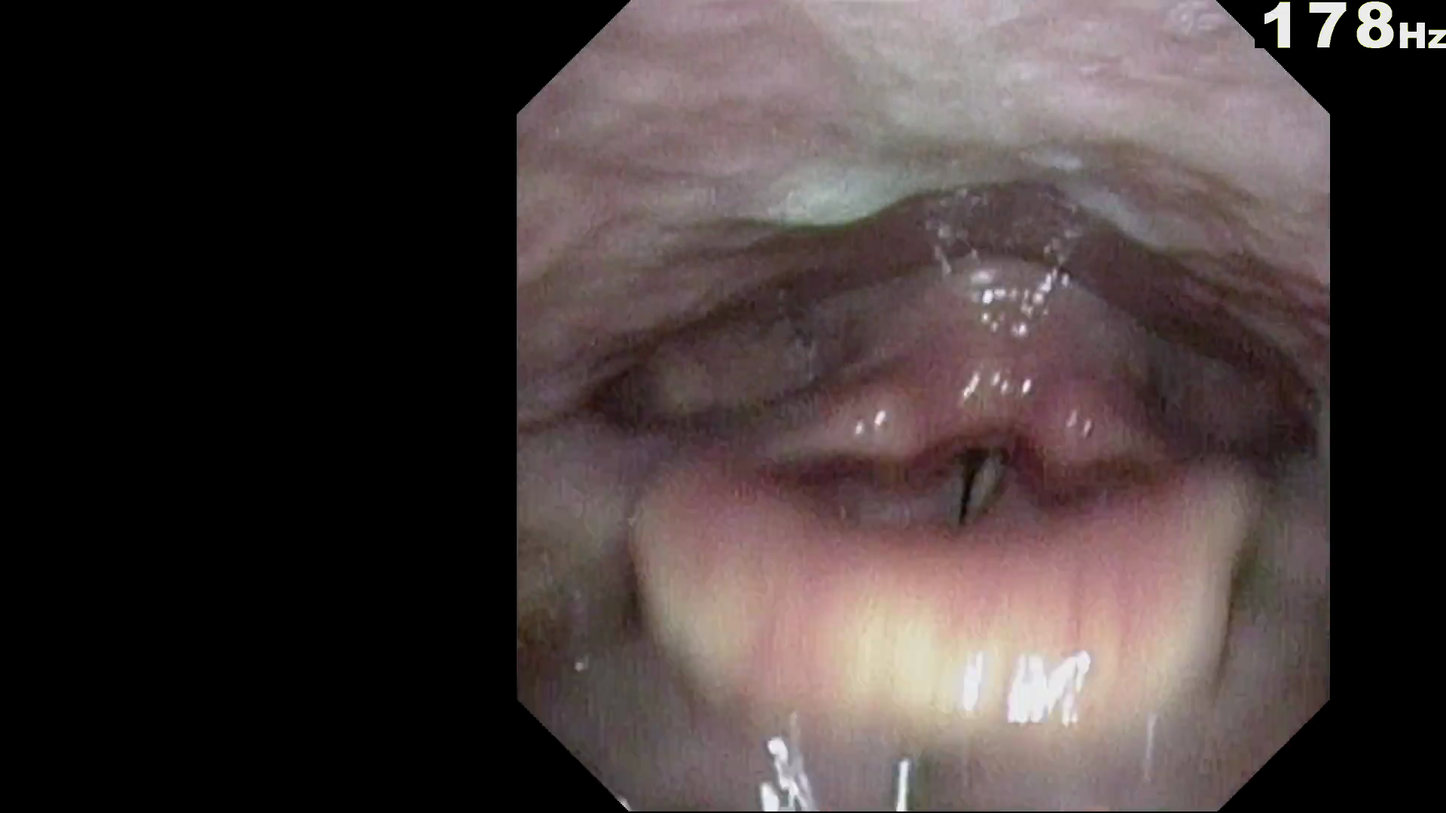epiglottis: (653, 449, 1231, 640)
trachea: (887, 407, 1041, 490)
